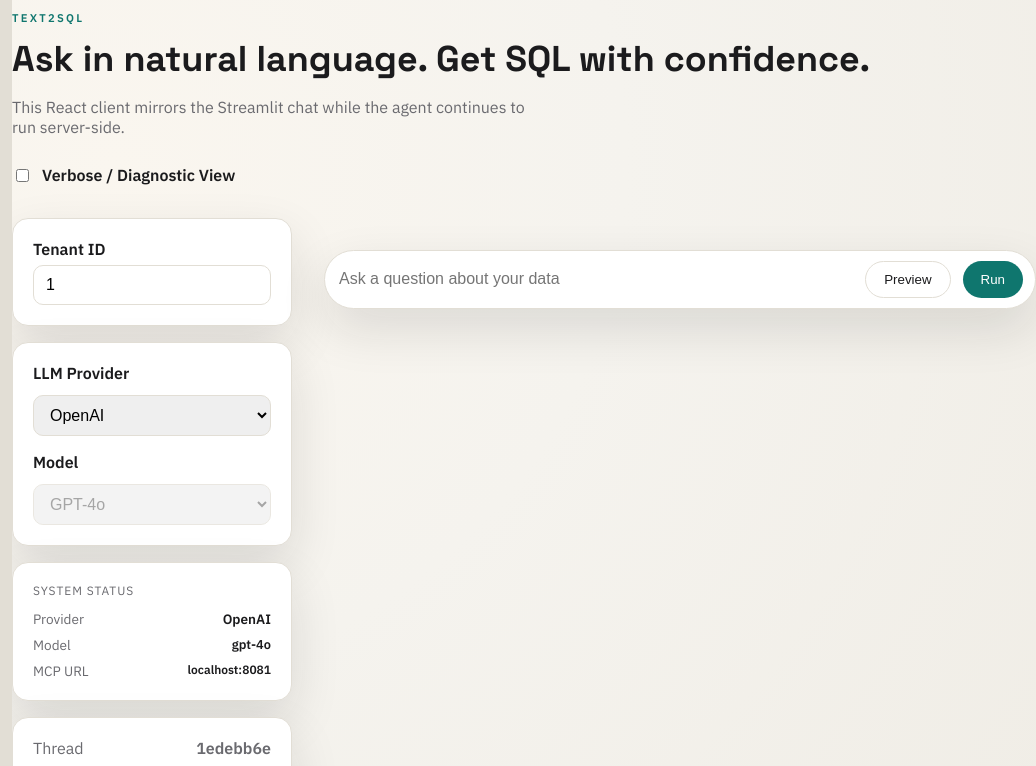
AgentChat observability › renders decision events in deterministic timestamp order
The image size is (1036, 766).
Type "show decision order" into the field with placeholder "Ask a question about your data".
click(595, 279); type("show decision order")  # box [337, 261, 853, 298]
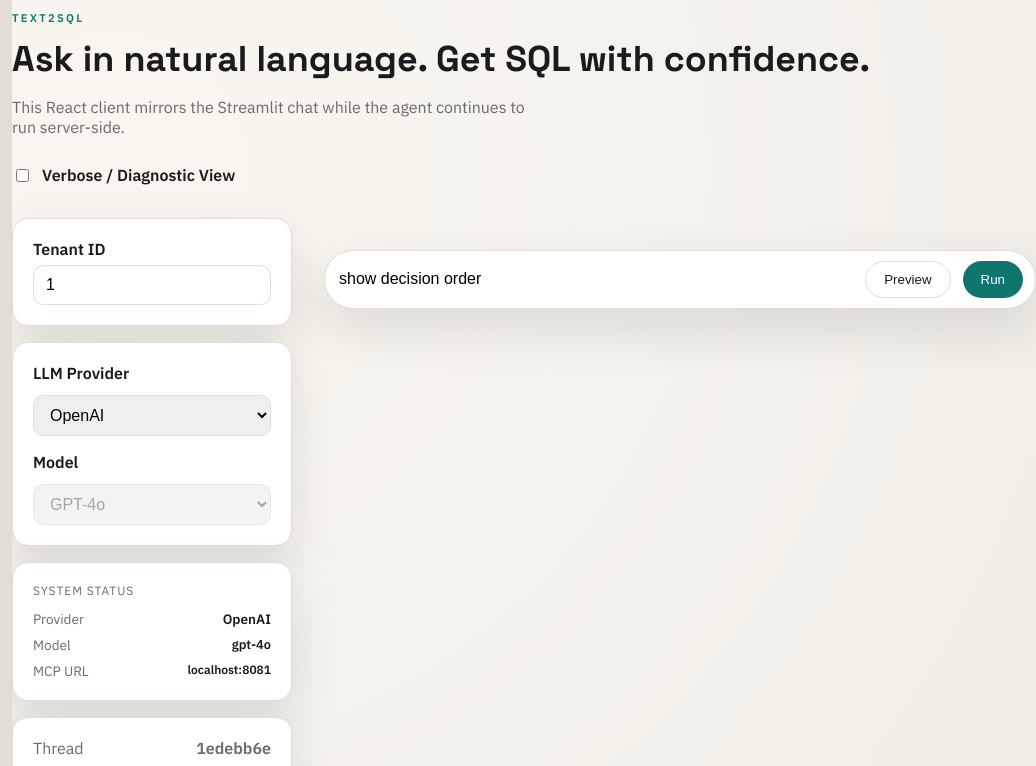
Submit the form with placeholder "ask a question", box [324, 250, 1035, 309]
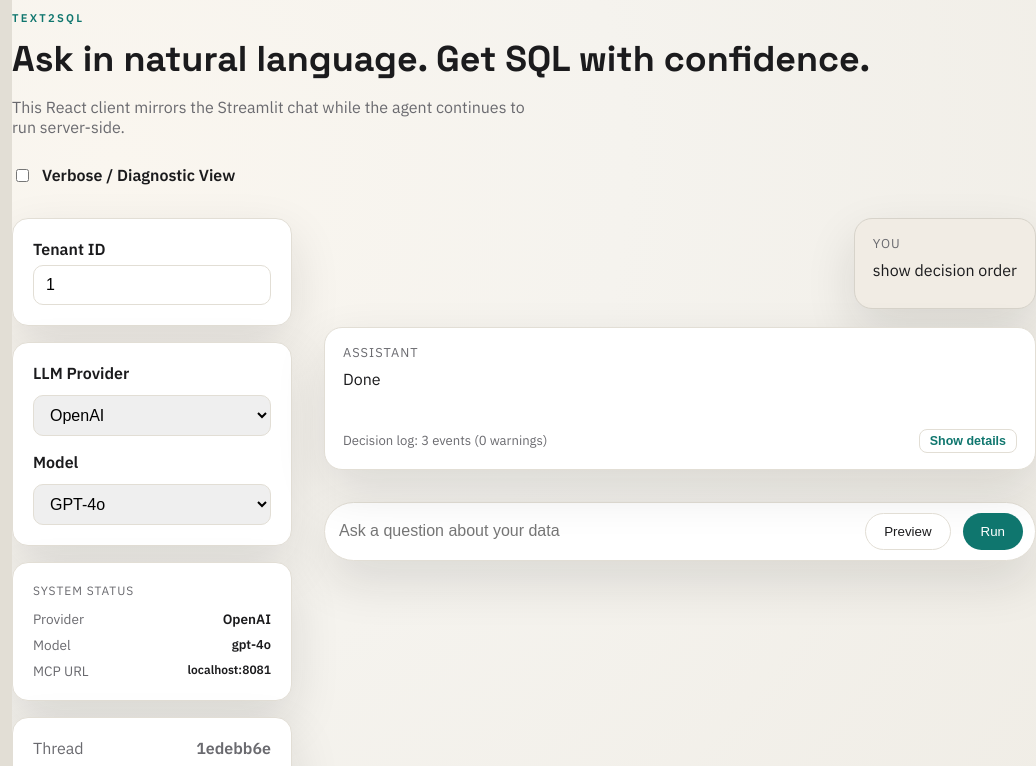
Expected: the text "Done" is shown, [343, 369, 381, 389]
Click the button with test id "decision-log-toggle".
click(968, 441)  # box [919, 429, 1017, 453]
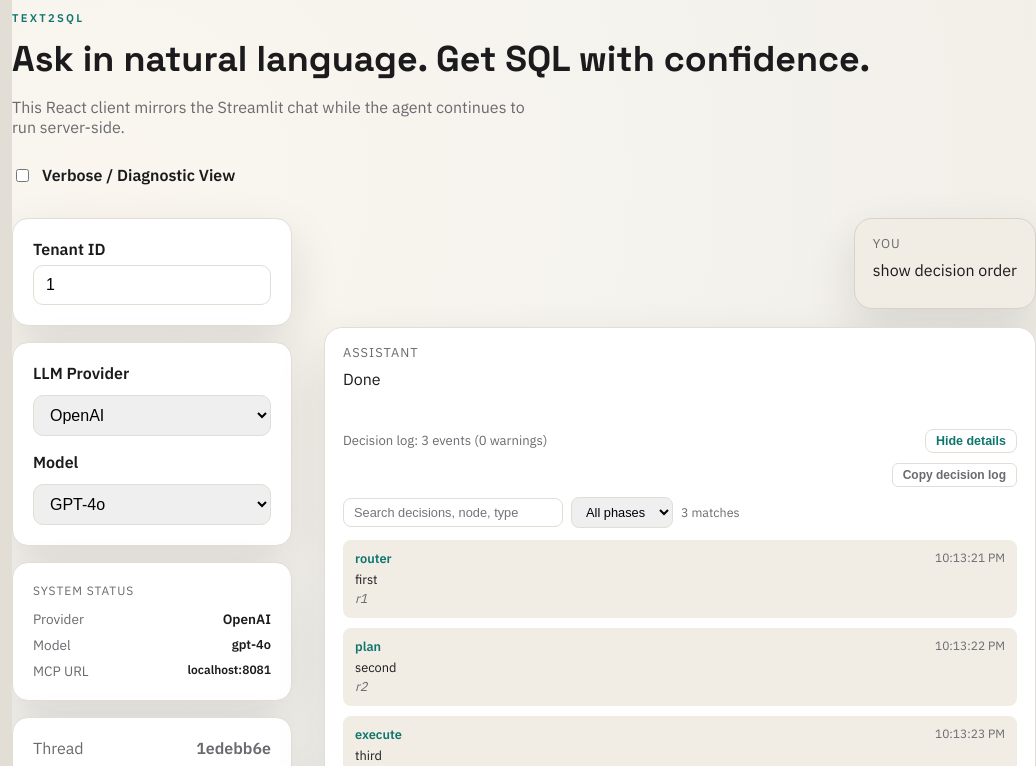
Expected: the button "Copy decision log" is shown, [892, 463, 1017, 487]
Expected: the elements with test id "decision-event-decision" read "first", "second", "third", in this order, [355, 571, 378, 588]; [355, 659, 396, 676]; [355, 747, 382, 764]
